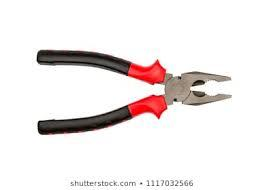pliers: (35, 47, 233, 136)
